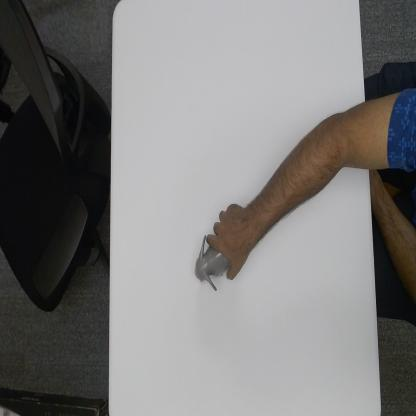Arm: (252, 105, 370, 249)
Elephant: (193, 233, 232, 293)
Hand: (205, 196, 251, 281)
